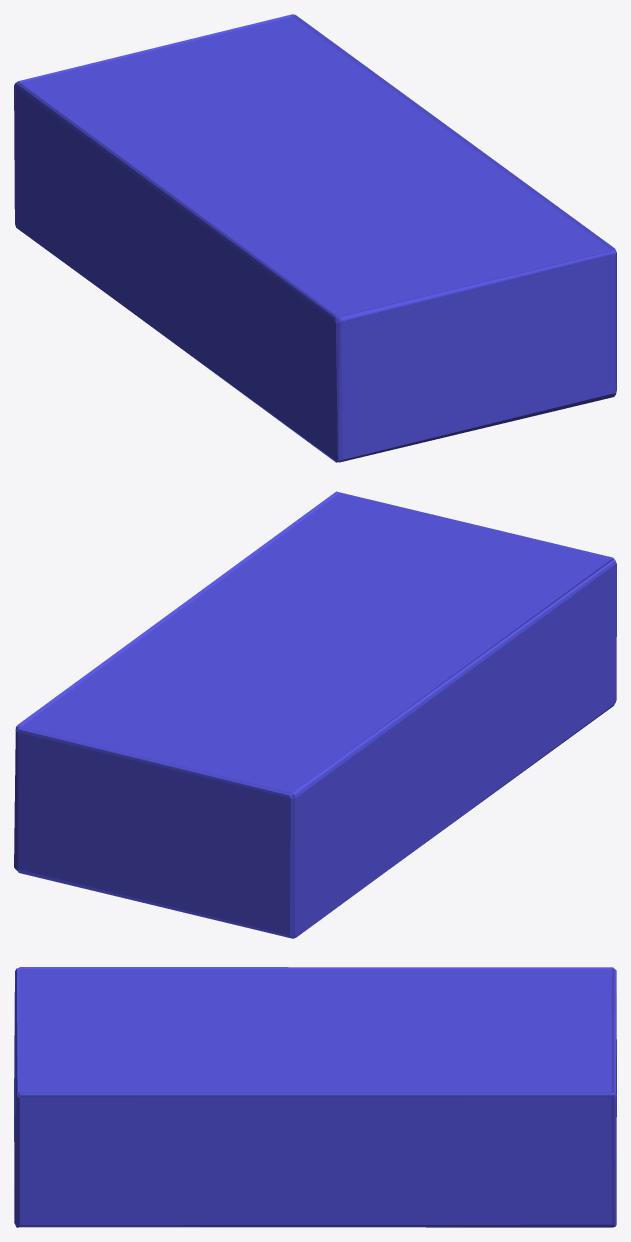
File: foamBlock_blue.fbx
The picture shows the model from 3 angles, top to bottom: view 1: azimuth 30°, elevation 25°; view 2: azimuth 150°, elevation 25°; view 3: azimuth 270°, elevation 25°; orthographic projection. The views are drawn at different scales.
Visible parts, largest first — view 1: Cube.001; view 2: Cube.001; view 3: Cube.001.
Part boxes in pixels (box(x1,y1,x2,y2)): Cube.001: box(14, 14, 616, 462); Cube.001: box(14, 491, 616, 938); Cube.001: box(14, 967, 616, 1227).
Bounding box in the file's own units: 201 × 100 × 401.
